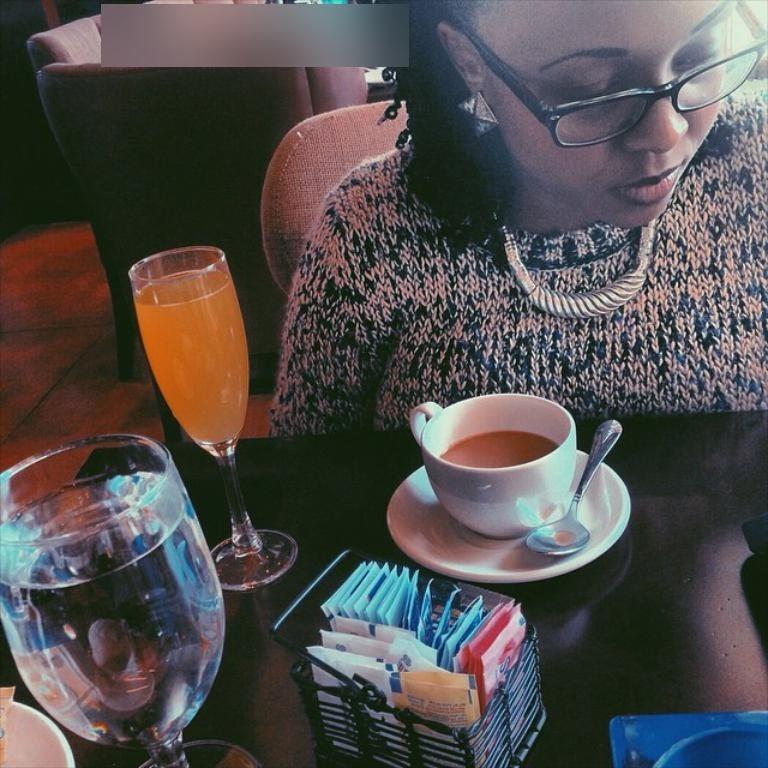cup-handle: (409, 391, 581, 539)
glass-wine: (1, 433, 266, 767), (129, 246, 300, 591)
